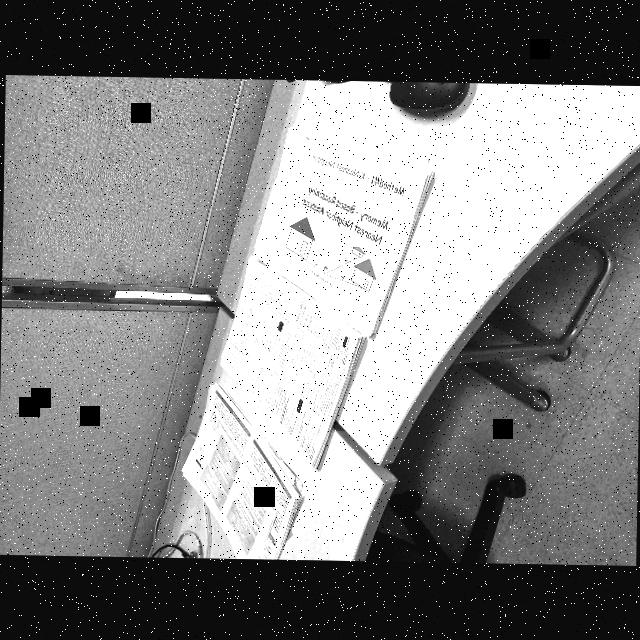reuseable_paper: (210, 124, 437, 470), (176, 361, 305, 558)
